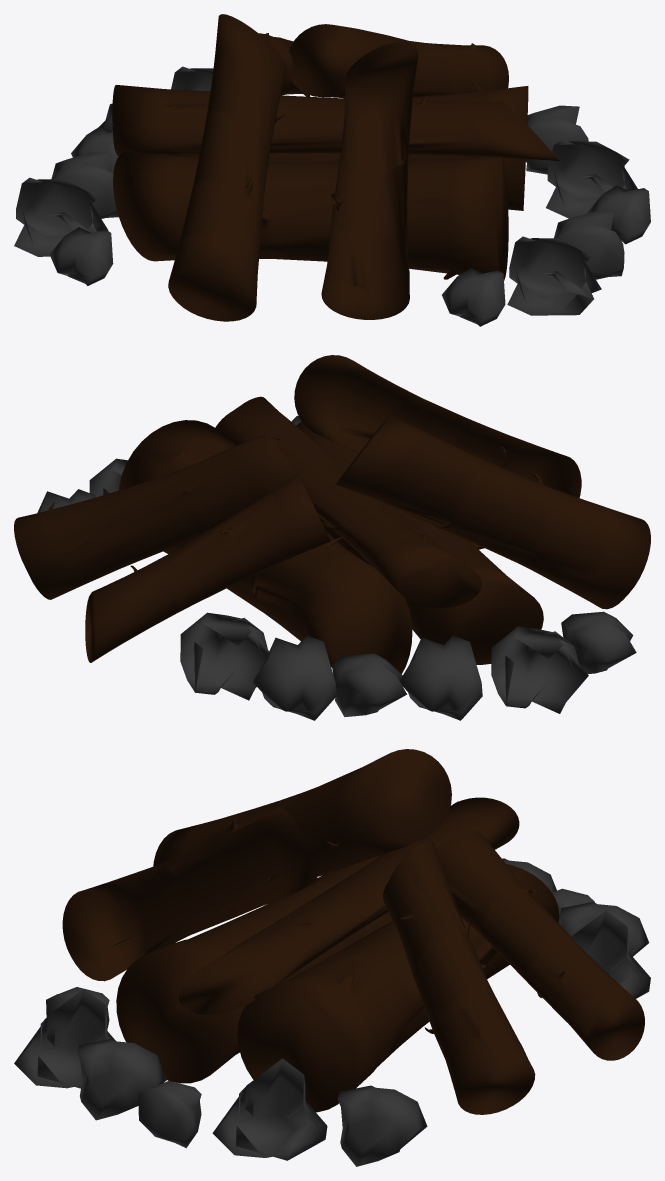
Rendered from Fireplace.fbx.
The picture shows the model from 3 angles, top to bottom: view 1: azimuth 30°, elevation 25°; view 2: azimuth 150°, elevation 25°; view 3: azimuth 270°, elevation 25°; orthographic projection. The views are drawn at different scales.
Visible parts, largest first — view 1: Cylinder.006, Icosphere.011; view 2: Cylinder.006, Icosphere.011; view 3: Cylinder.006, Icosphere.011.
Part boxes in pixels (<box>): Cylinder.006: <box>112,14,558,321</box>; Icosphere.011: <box>14,66,650,326</box>; Cylinder.006: <box>14,355,650,674</box>; Icosphere.011: <box>37,415,636,720</box>; Cylinder.006: <box>62,749,644,1114</box>; Icosphere.011: <box>14,801,650,1166</box>.
Size of the model in its own units: 75.05 by 29.76 by 69.69.
